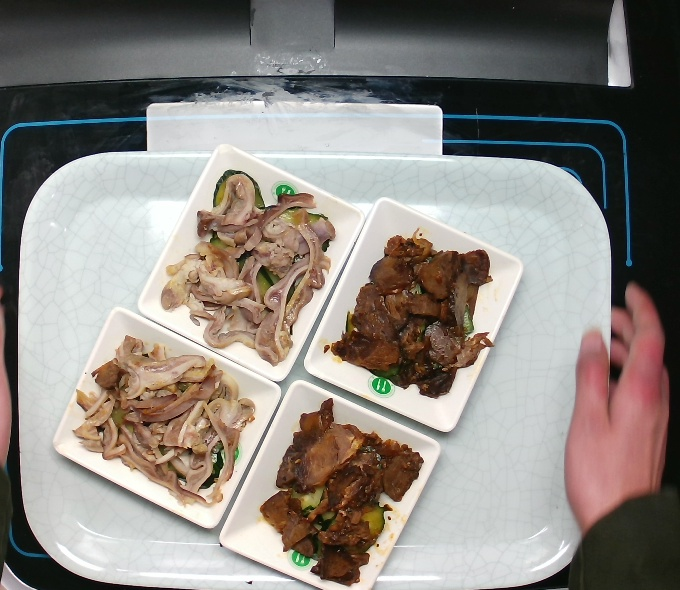wcq-JiangNiuRou: (318, 217, 497, 406), (256, 392, 426, 590)
wcq-ZhuDu: (155, 166, 341, 371), (68, 329, 260, 507)
